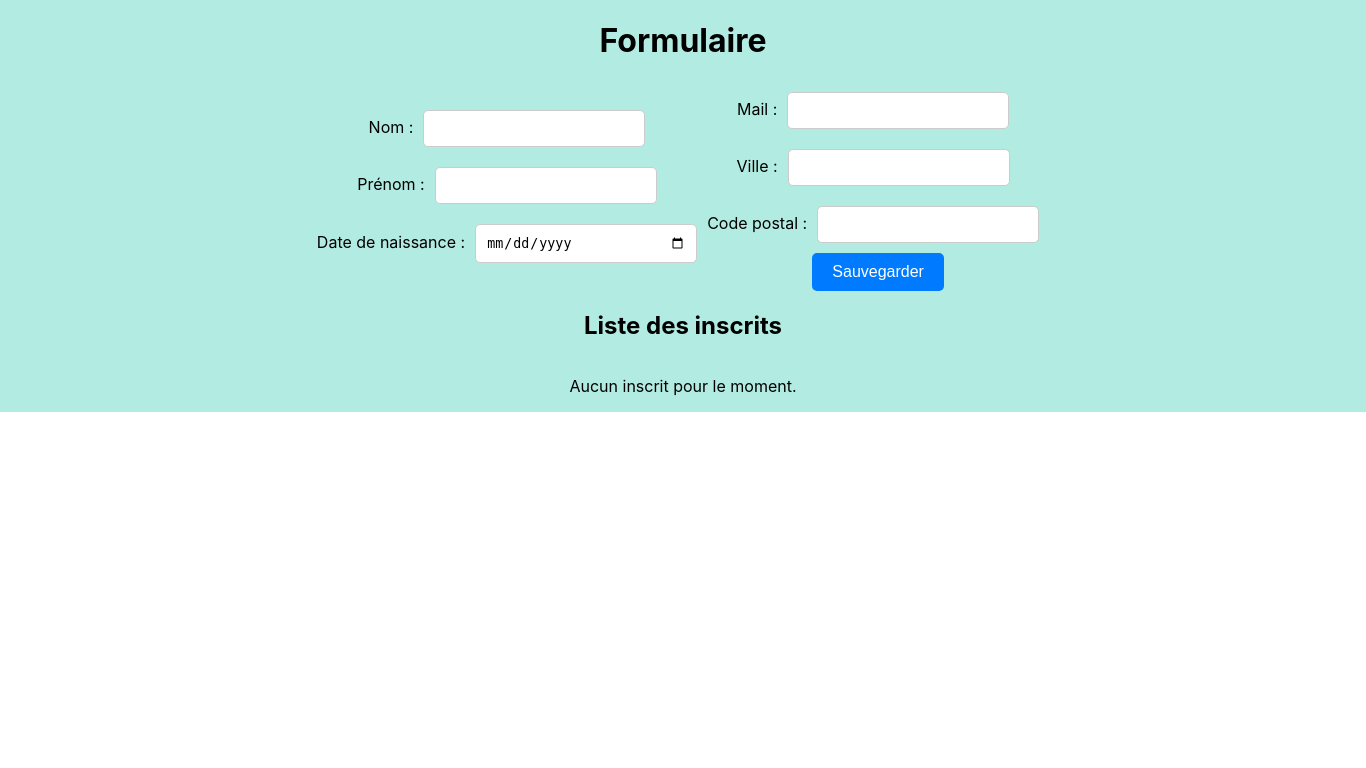
Scenario: Form › creates a user while admin is connected and refreshes the admin list
This screenshot has width=1366, height=768.
Check: the text "Aucun inscrit pour le moment." is shown, box [570,376,797,396]
Type "Martin" into the field labelled "Nom :".
click(534, 128); type("Martin")  # box [423,110,645,147]
Type "Claire" into the field labelled "Prénom :".
click(546, 185); type("Claire")  # box [435,167,657,204]
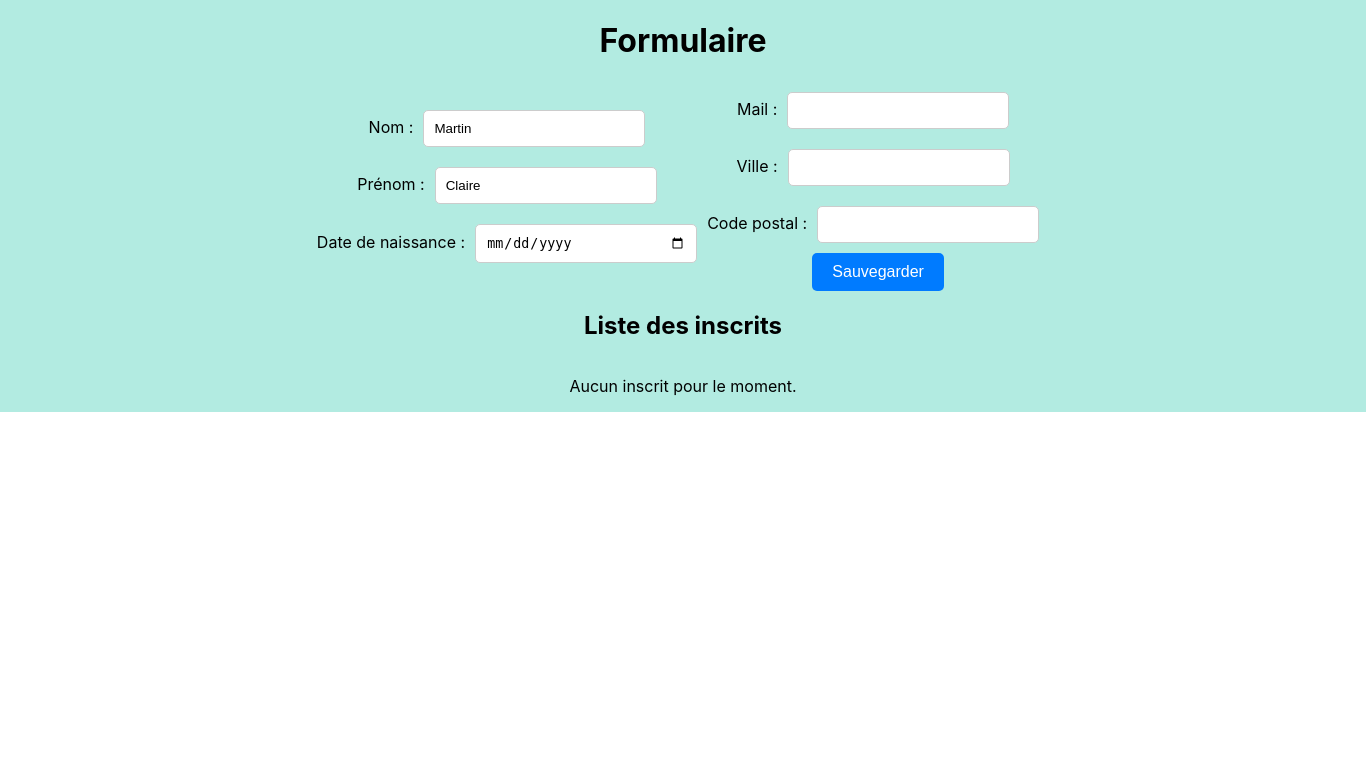
Type "1990-05-05" into the date field labelled "Date de naissance :".
click(586, 243); type("1990-05-05")  # box [475,224,697,263]
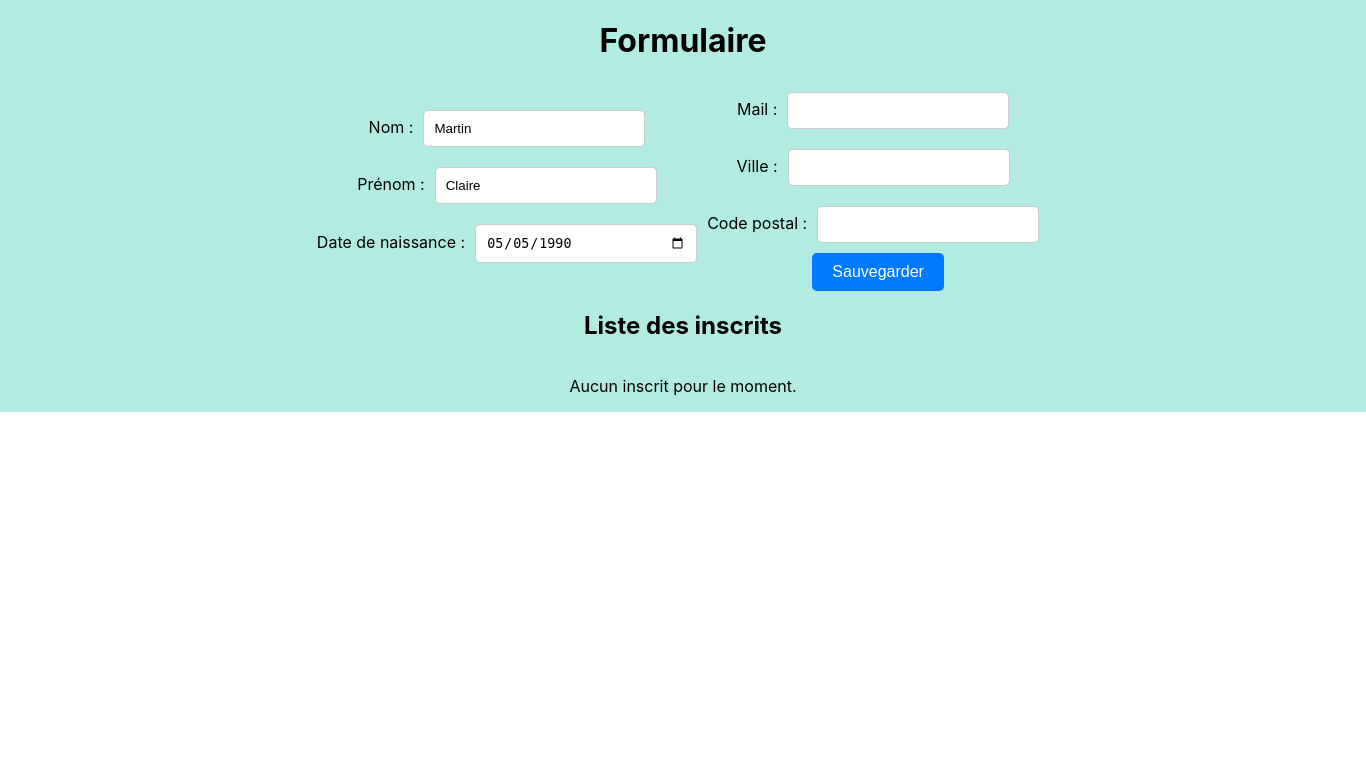
Type "claire@email.com" into the field labelled "Mail :".
click(898, 110); type("claire@email.com")  # box [787,92,1009,129]
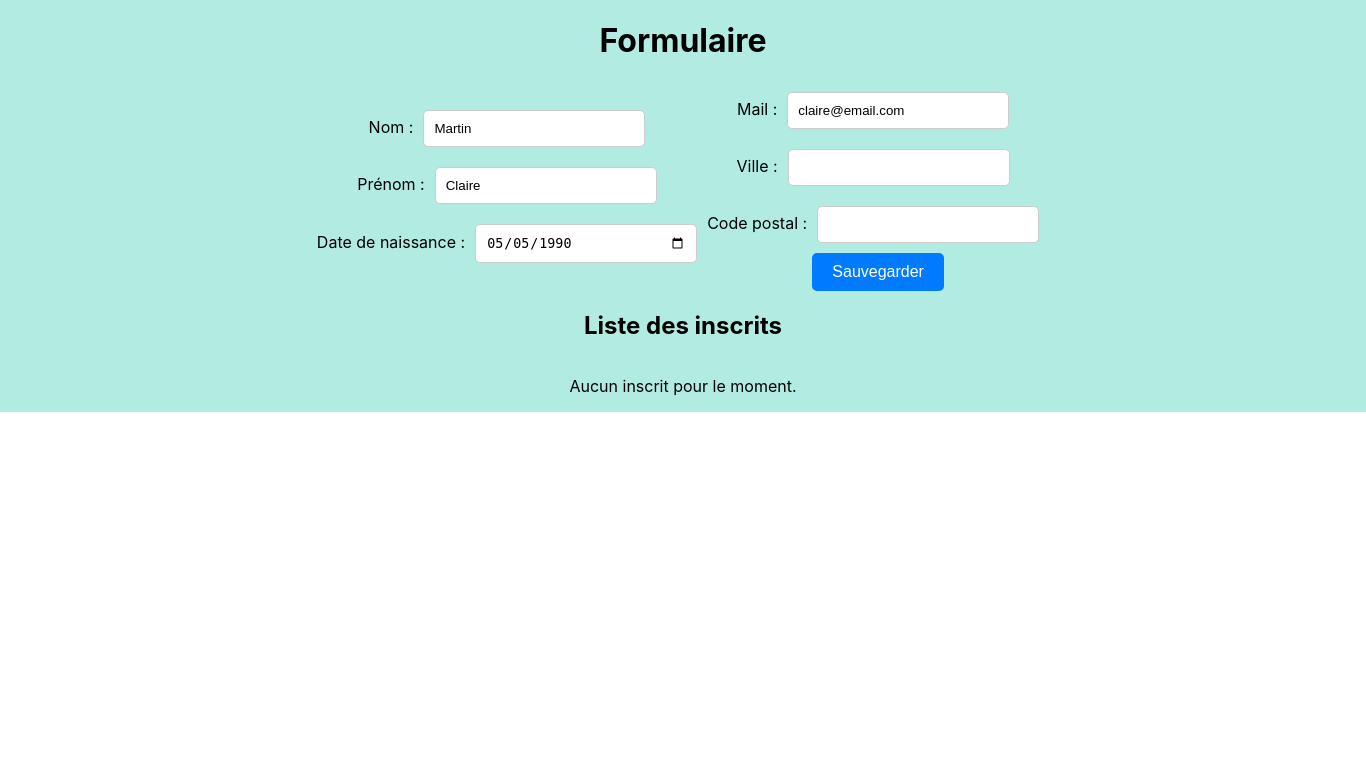
Type "Lyon" into the field labelled "Ville :".
click(899, 167); type("Lyon")  # box [788,149,1010,186]
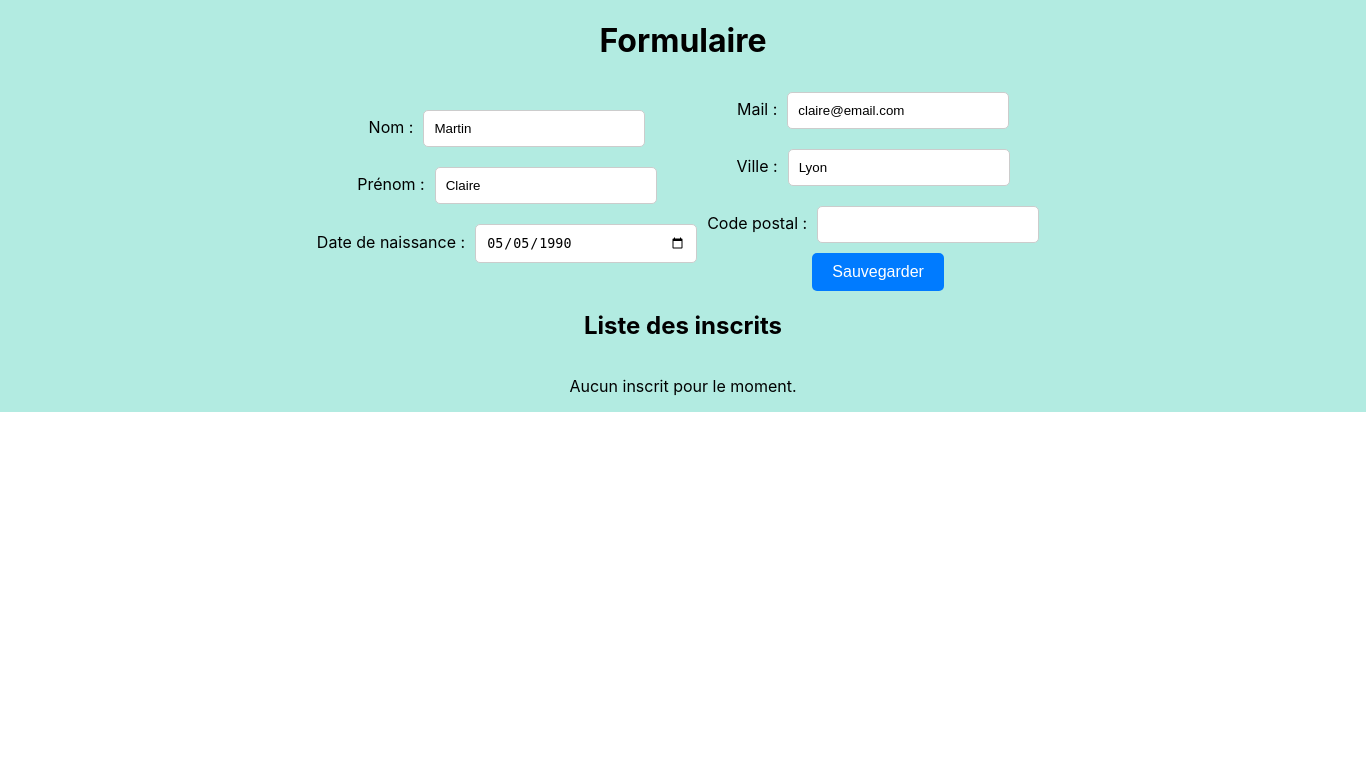
Type "69002" into the field labelled "Code postal :".
click(928, 224); type("69002")  # box [817,206,1039,243]
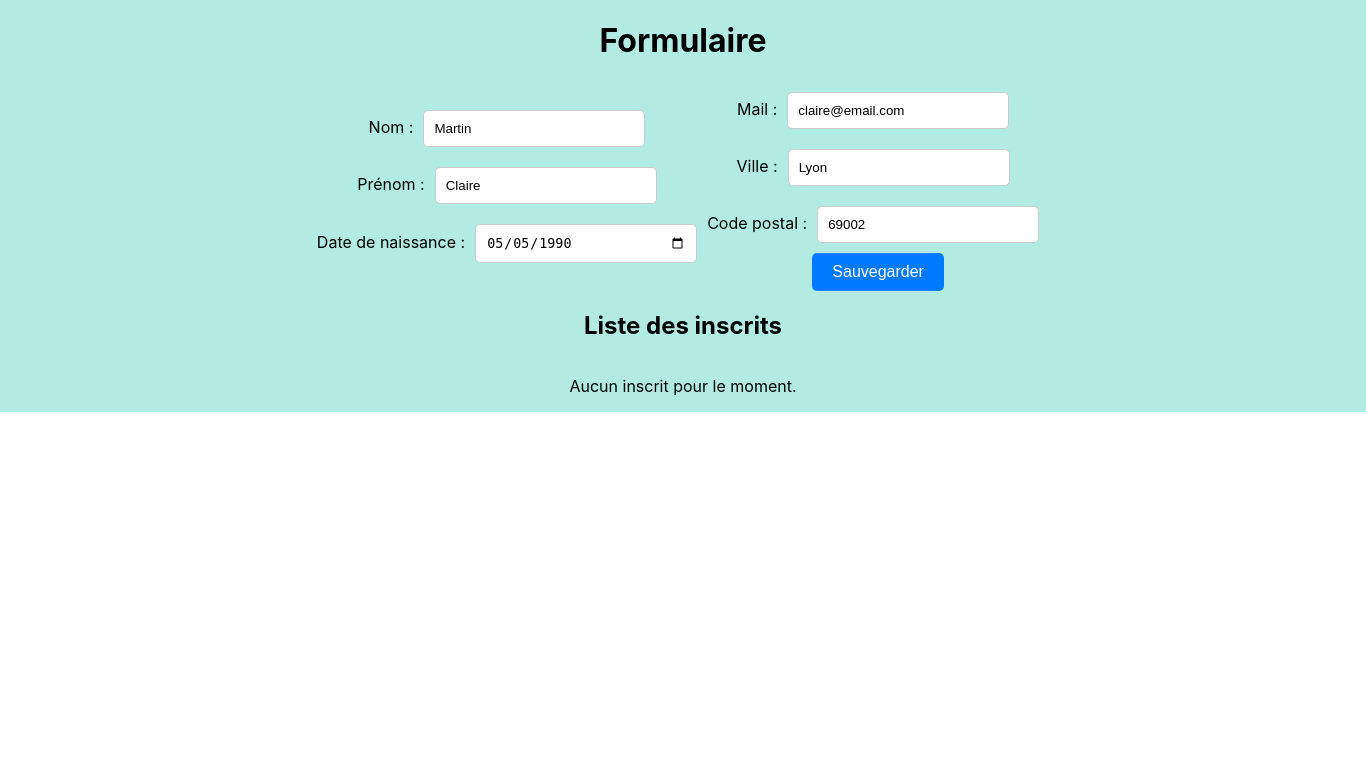
Click the button showing "sauvegarder".
click(878, 272)  # box [812,253,944,291]
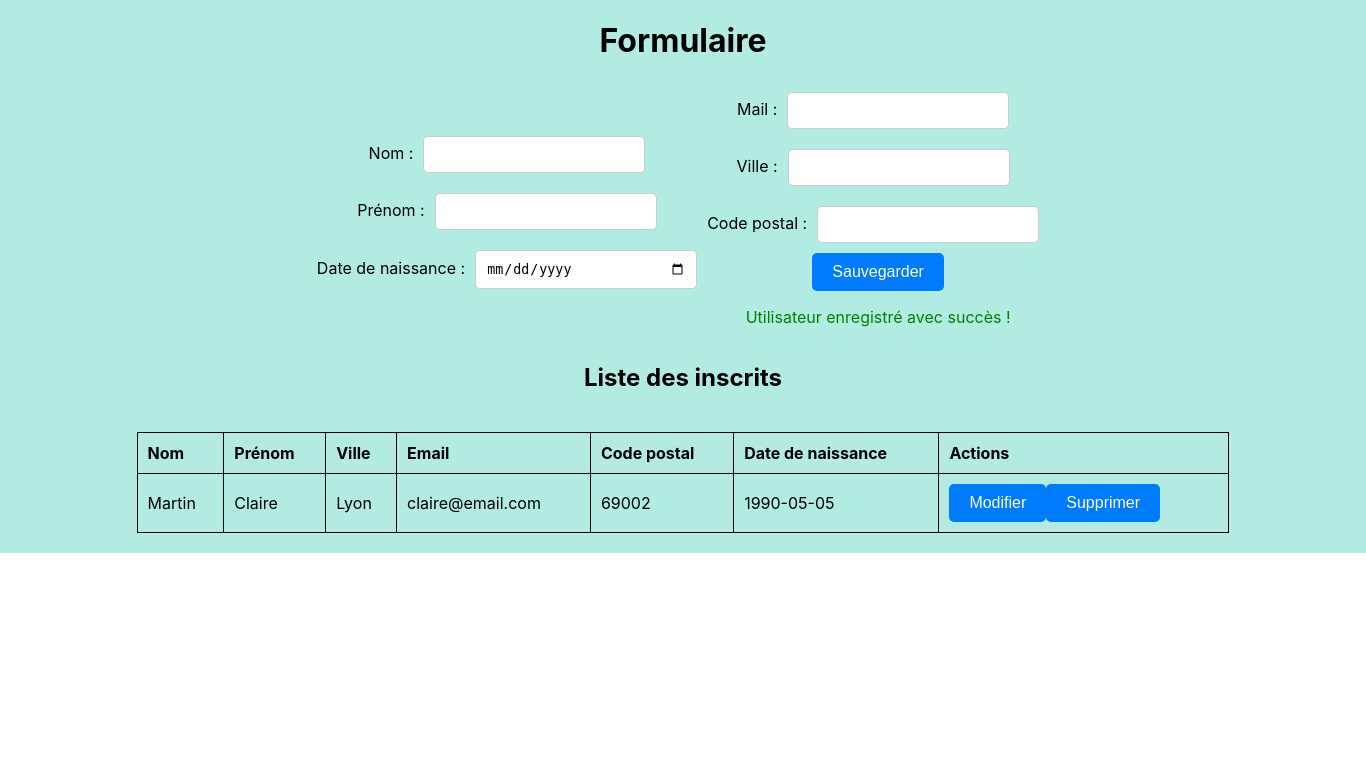
Check: the text "claire@email.com" is shown, box [397,473,590,532]
